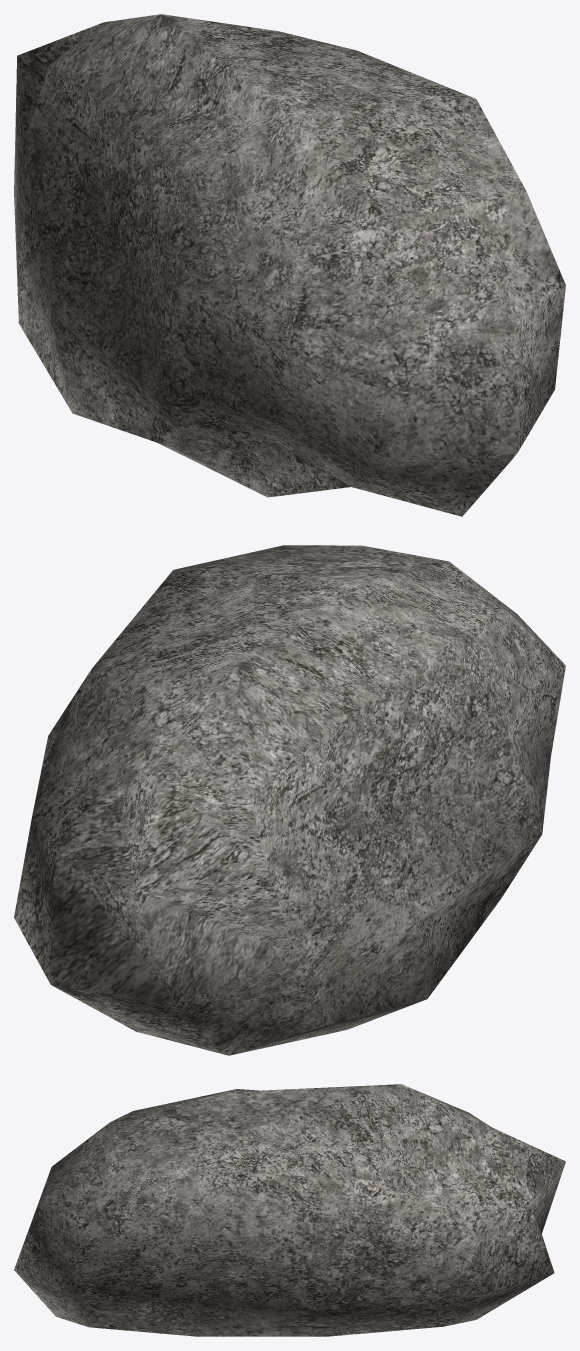
File: pedra2.fbx
The picture shows the model from 3 angles, top to bottom: view 1: azimuth 30°, elevation 25°; view 2: azimuth 150°, elevation 25°; view 3: azimuth 270°, elevation 25°; orthographic projection. The views are drawn at different scales.
Parts seen in each view (by area): view 1: Forester_Rock; view 2: Forester_Rock; view 3: Forester_Rock.
Part boxes in pixels (<box>): Forester_Rock: <box>14,14,565,516</box>; Forester_Rock: <box>14,545,565,1055</box>; Forester_Rock: <box>14,1084,565,1336</box>.
Bounding box in the file's own units: 208 × 208 × 417.
1 material, 1 textured.
